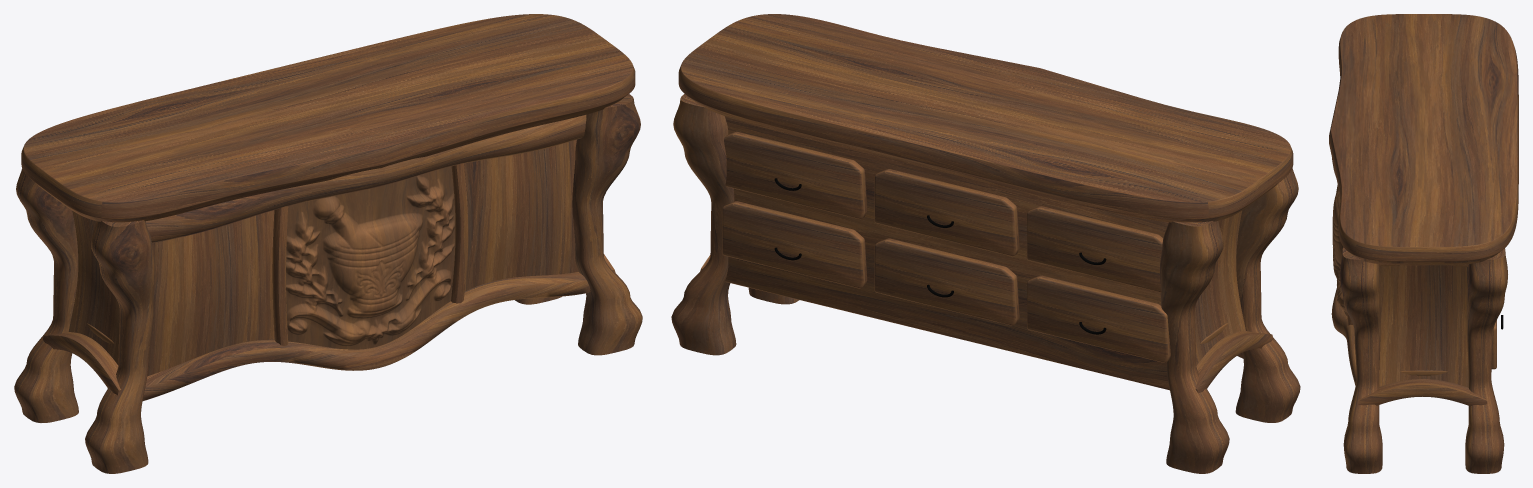
File: CM_CW08_HeroCounter.fbx
3 views of the same model, side by side, from view 1: azimuth 30°, elevation 25°; view 2: azimuth 150°, elevation 25°; view 3: azimuth 270°, elevation 25° (orthographic). The views are drawn at different scales.
Parts seen in each view (by area): view 1: CM_CW08_HeroCounter; view 2: CM_CW08_HeroCounter; view 3: CM_CW08_HeroCounter.
Part boxes in pixels (x1,y1,x2,y2): CM_CW08_HeroCounter: [14, 14, 642, 473]; CM_CW08_HeroCounter: [671, 14, 1300, 473]; CM_CW08_HeroCounter: [1329, 14, 1518, 473].
Size of the model in its own units: 2.28 by 1.05 by 0.78.
